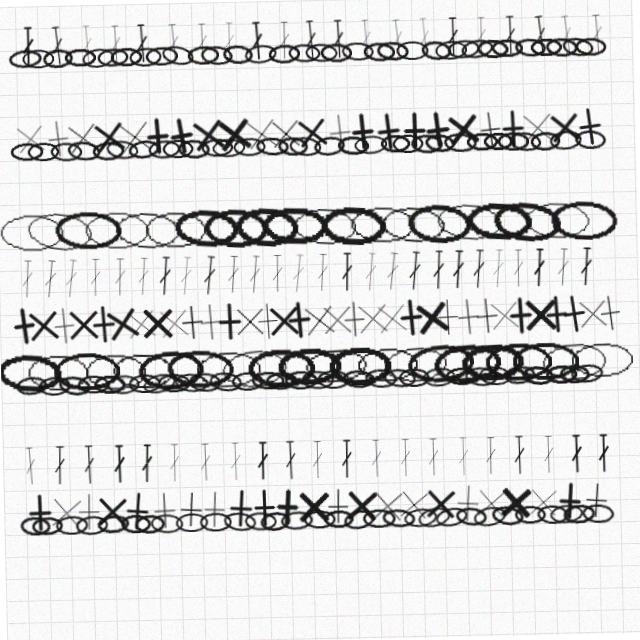chain: (26, 202, 97, 249), (493, 203, 565, 249), (436, 203, 506, 248), (114, 204, 184, 248), (380, 204, 450, 248), (218, 345, 288, 389), (431, 345, 501, 388), (175, 204, 243, 248), (408, 204, 476, 248), (405, 345, 474, 388), (467, 204, 535, 247), (293, 205, 362, 247), (552, 205, 621, 247), (539, 346, 608, 388), (236, 204, 303, 247), (321, 205, 389, 247), (525, 205, 593, 247), (380, 346, 448, 388), (85, 205, 154, 246), (350, 205, 419, 246), (205, 205, 272, 247), (56, 205, 124, 246), (165, 346, 233, 387), (0, 345, 63, 389), (263, 205, 330, 246), (24, 346, 91, 387), (108, 346, 175, 387), (136, 346, 203, 387), (301, 346, 368, 387), (193, 347, 261, 387), (246, 347, 314, 387), (459, 346, 525, 387), (0, 206, 67, 246), (145, 206, 211, 246), (82, 347, 148, 387), (52, 347, 119, 386), (484, 347, 551, 386), (511, 347, 578, 386), (568, 347, 635, 386), (276, 347, 342, 386), (354, 347, 420, 386), (327, 347, 392, 386), (140, 367, 176, 393), (412, 507, 448, 532), (166, 40, 201, 65), (468, 508, 503, 532), (567, 41, 601, 65), (56, 368, 90, 392), (338, 508, 372, 532), (430, 508, 464, 532), (466, 41, 501, 64), (70, 134, 105, 157), (207, 368, 242, 391), (109, 134, 143, 157), (131, 134, 165, 157), (486, 508, 520, 531), (381, 369, 416, 391), (218, 509, 253, 531), (87, 42, 121, 64), (292, 135, 326, 157), (512, 135, 546, 157), (173, 369, 207, 391), (463, 369, 497, 391), (377, 509, 411, 531), (399, 509, 433, 531), (450, 509, 484, 531), (206, 42, 239, 64), (250, 42, 283, 64), (426, 42, 459, 64), (317, 135, 350, 157), (520, 369, 553, 391), (14, 42, 48, 63), (259, 135, 293, 156), (447, 135, 481, 156), (421, 369, 455, 390), (477, 369, 511, 390), (569, 369, 603, 390), (545, 509, 579, 530), (428, 135, 460, 157), (255, 509, 287, 531), (347, 42, 380, 63), (382, 42, 415, 63), (453, 42, 486, 63), (482, 42, 515, 63), (520, 42, 553, 63), (551, 42, 584, 63), (553, 135, 586, 156), (578, 135, 611, 156), (14, 369, 47, 390), (187, 369, 220, 390), (363, 369, 396, 390), (502, 369, 535, 390), (92, 509, 125, 530), (532, 509, 565, 530), (558, 509, 591, 530), (577, 509, 610, 530), (340, 370, 374, 390), (48, 42, 80, 63), (228, 42, 260, 63), (281, 135, 313, 156), (15, 509, 47, 530), (135, 43, 168, 63), (294, 43, 327, 63), (311, 43, 344, 63), (181, 136, 214, 156), (216, 136, 249, 156), (358, 136, 391, 156), (414, 136, 447, 156), (300, 370, 333, 390), (71, 510, 104, 530), (146, 510, 179, 530), (276, 510, 309, 530), (103, 43, 135, 63), (274, 43, 306, 63), (326, 43, 358, 63), (369, 43, 401, 63), (441, 43, 473, 63), (581, 43, 613, 63), (54, 136, 86, 156), (96, 136, 128, 156), (152, 136, 184, 156), (341, 136, 373, 156), (37, 370, 69, 390), (106, 370, 138, 390), (264, 370, 296, 390), (27, 510, 59, 530), (240, 510, 272, 530), (151, 43, 184, 62), (402, 43, 435, 62), (14, 136, 47, 155), (237, 136, 270, 155), (156, 370, 189, 389), (250, 370, 283, 389), (283, 370, 316, 389), (444, 370, 477, 389), (51, 510, 84, 529), (171, 510, 204, 529), (358, 510, 391, 529), (534, 136, 565, 156), (130, 510, 161, 530), (28, 43, 60, 62), (70, 43, 102, 62), (116, 43, 148, 62), (193, 43, 225, 62), (497, 43, 529, 62), (536, 43, 568, 62), (31, 136, 63, 155), (166, 136, 198, 155), (205, 136, 237, 155), (396, 136, 428, 155), (470, 136, 502, 155), (501, 136, 533, 155), (76, 370, 108, 389), (92, 370, 124, 389), (127, 370, 159, 389), (230, 370, 262, 389), (316, 370, 348, 389), (397, 370, 429, 389), (544, 370, 576, 389), (195, 510, 227, 529), (299, 510, 331, 529), (510, 510, 542, 529), (384, 136, 415, 155), (487, 136, 518, 155), (558, 370, 589, 389), (116, 510, 147, 529), (319, 510, 350, 529)
double: (565, 20, 582, 60), (43, 253, 60, 293), (64, 253, 81, 293), (202, 253, 219, 293), (291, 253, 308, 293), (385, 253, 402, 293), (56, 20, 72, 60), (396, 20, 412, 60), (539, 20, 555, 60), (179, 253, 195, 293), (248, 253, 264, 293), (364, 253, 380, 293), (408, 253, 424, 293), (172, 20, 188, 59), (423, 20, 439, 59), (158, 253, 174, 292), (472, 253, 488, 292), (86, 20, 101, 59), (141, 20, 156, 59), (256, 20, 271, 59), (310, 20, 325, 59), (365, 20, 380, 59), (596, 20, 611, 59), (21, 253, 36, 292), (137, 253, 152, 292), (227, 253, 242, 292), (316, 253, 331, 292), (432, 253, 447, 292), (452, 253, 467, 292), (492, 253, 507, 292), (533, 253, 548, 292), (557, 253, 572, 292), (580, 253, 595, 292), (20, 440, 35, 479), (115, 20, 129, 59), (338, 20, 352, 59), (114, 253, 128, 292), (341, 253, 355, 292), (79, 440, 93, 479), (137, 440, 151, 479), (28, 20, 41, 59), (202, 20, 215, 59), (229, 20, 242, 59), (284, 20, 297, 59), (453, 20, 466, 59), (481, 20, 494, 59), (510, 20, 523, 59), (90, 253, 103, 292), (272, 253, 285, 292), (513, 253, 526, 292), (50, 440, 63, 479), (110, 440, 123, 479), (165, 440, 178, 479), (196, 440, 209, 479), (226, 440, 239, 479), (253, 440, 266, 479), (281, 440, 294, 479), (308, 440, 321, 479), (337, 440, 350, 479), (367, 440, 380, 479), (396, 440, 409, 479), (424, 440, 437, 479), (454, 440, 467, 479), (481, 440, 494, 479), (510, 440, 523, 479), (539, 440, 552, 479), (567, 440, 580, 479), (594, 440, 607, 479)
single: (100, 297, 145, 342), (164, 111, 208, 155), (410, 298, 454, 342), (13, 111, 56, 154), (65, 111, 108, 154), (92, 111, 135, 154), (117, 111, 160, 154), (191, 111, 234, 154), (217, 111, 260, 154), (244, 111, 287, 154), (295, 111, 338, 154), (420, 111, 463, 154), (446, 111, 489, 154), (573, 111, 616, 154), (3, 298, 46, 341), (553, 298, 596, 341), (589, 298, 632, 341), (388, 485, 431, 528), (41, 112, 83, 154), (323, 112, 365, 154), (372, 112, 414, 154), (473, 112, 515, 154), (548, 112, 590, 154), (43, 299, 85, 341), (120, 299, 162, 341), (153, 299, 195, 341), (298, 299, 340, 341), (371, 299, 413, 341), (447, 299, 489, 341), (41, 486, 83, 528), (112, 486, 154, 528), (362, 486, 404, 528), (466, 486, 508, 528), (518, 486, 560, 528), (141, 112, 182, 153), (269, 112, 310, 153), (346, 112, 387, 153), (521, 112, 562, 153), (23, 299, 64, 340), (83, 299, 124, 340), (172, 299, 213, 340), (190, 299, 231, 340), (279, 299, 320, 340), (352, 299, 393, 340), (391, 299, 432, 340), (466, 299, 507, 340), (484, 299, 525, 340), (536, 299, 577, 340), (572, 299, 613, 340), (166, 486, 207, 527), (216, 486, 257, 527), (263, 486, 304, 527), (337, 486, 378, 527), (416, 486, 457, 527), (443, 486, 484, 527), (491, 486, 532, 527), (545, 486, 586, 527), (572, 486, 613, 527), (248, 300, 288, 340), (264, 300, 304, 340), (317, 300, 357, 340), (334, 300, 374, 340), (428, 300, 468, 340), (501, 300, 541, 340), (88, 487, 128, 527), (140, 487, 180, 527), (190, 487, 230, 527), (498, 113, 537, 153), (399, 113, 438, 152), (64, 300, 103, 339), (138, 300, 177, 339), (210, 300, 249, 339), (230, 300, 269, 339), (521, 300, 560, 339), (16, 487, 55, 526), (65, 487, 104, 526), (241, 487, 280, 526), (290, 487, 329, 526), (314, 487, 353, 526)
